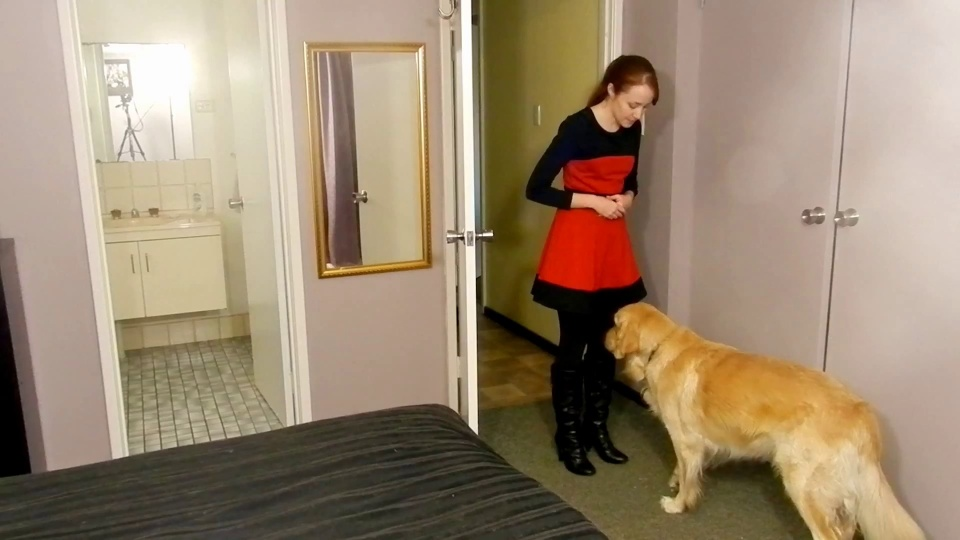person: (525, 55, 667, 484)
